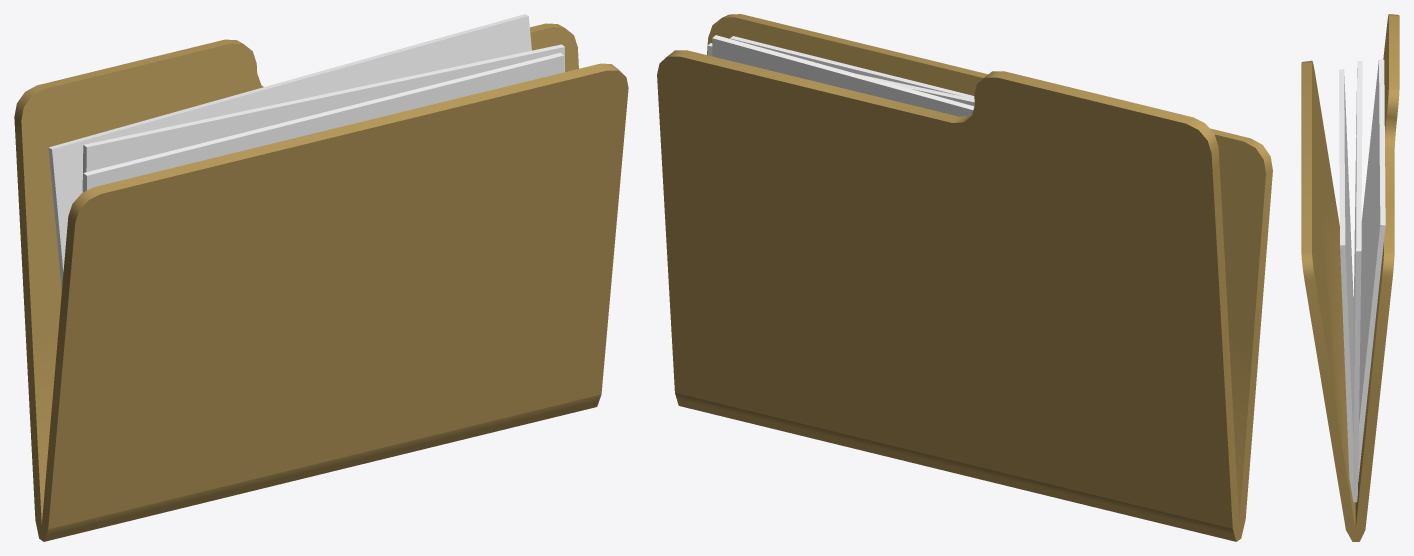
File: model_FolderIcon.glb
3 views of the same model, side by side, from view 1: azimuth 30°, elevation 25°; view 2: azimuth 150°, elevation 25°; view 3: azimuth 270°, elevation 25° (orthographic). The views are drawn at different scales.
Visible parts, largest first — view 1: Object_30, Object_32, Object_36, Object_34; view 2: Object_30, Object_32, Object_36; view 3: Object_30, Object_32, Object_36, Object_34.
Boxes of the visible parts, x1,y1,x2,y2 form: Object_30: (14, 23, 628, 541); Object_32: (48, 14, 531, 290); Object_36: (83, 52, 563, 192); Object_34: (82, 44, 564, 192); Object_30: (657, 14, 1272, 541); Object_32: (712, 35, 974, 116); Object_36: (729, 36, 974, 98); Object_30: (1301, 14, 1399, 541); Object_32: (1353, 59, 1385, 480); Object_36: (1339, 69, 1355, 500); Object_34: (1352, 61, 1362, 502).
Bounding box in the file's own units: 0.4515 × 0.3348 × 0.0908.
